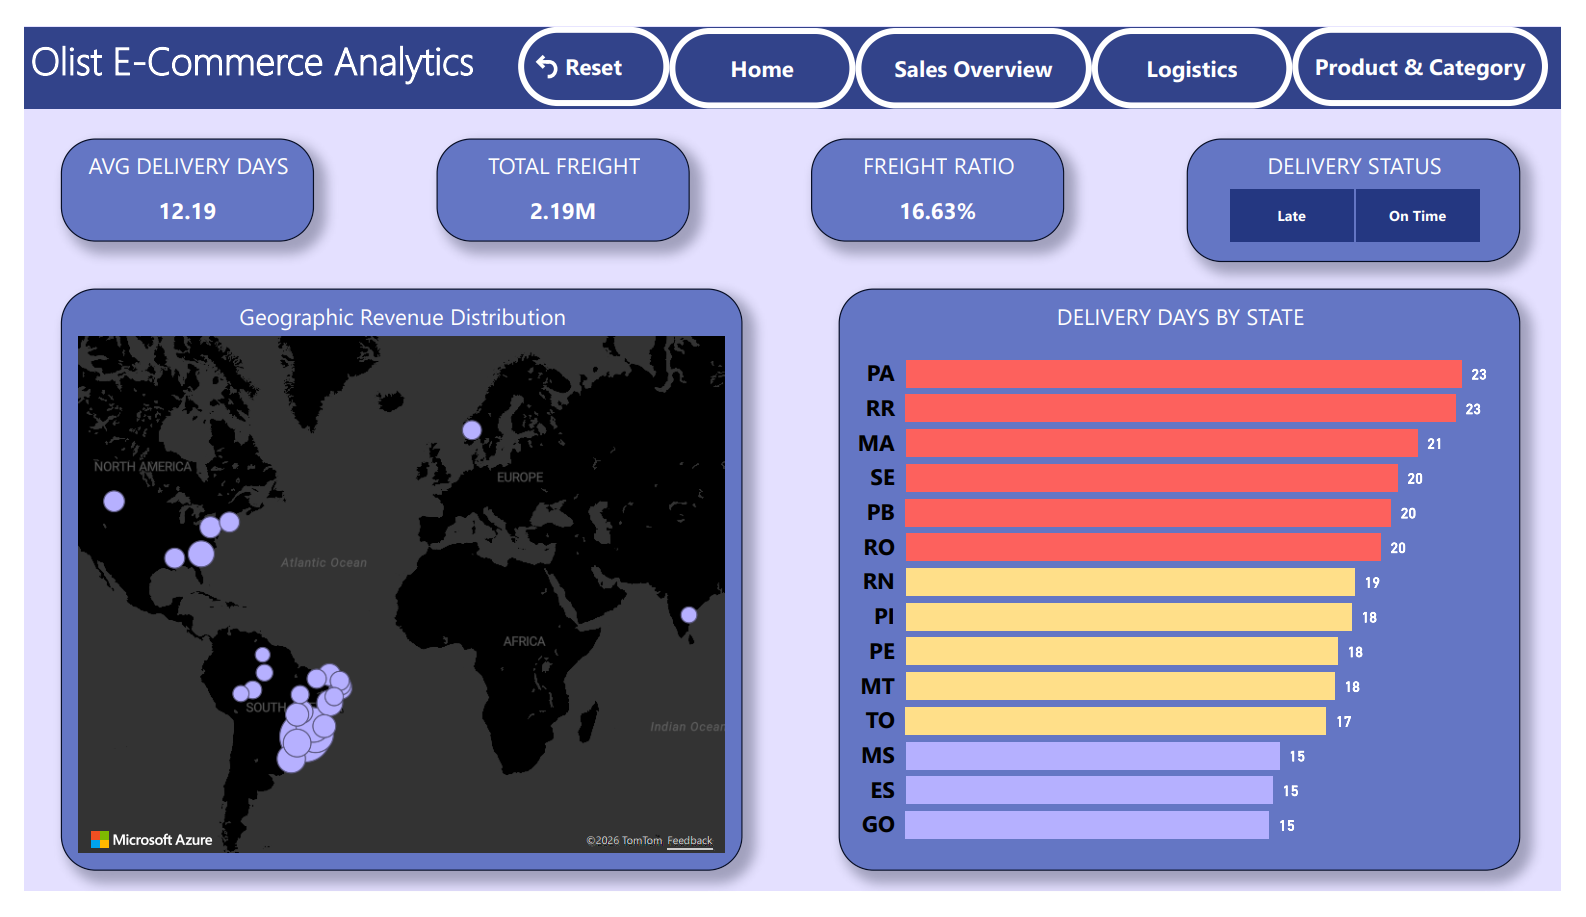

What the dashboard file says about the page in this screenshot:
{"tool":"powerbi","page":{"name":"Logistics","canvas":[1280,720],"ordinal":2},"visuals":[{"type":"textbox","box":[0,0,1280,67.5],"z":0},{"type":"actionButton","box":[536.9,1.2,154.8,66.7],"z":1000},{"type":"actionButton","box":[691.7,1.2,197.6,66.7],"z":2000},{"type":"actionButton","box":[889.3,1.2,166.7,66.7],"z":3000},{"type":"actionButton","box":[1056.2,0,212.5,66.2],"z":4000},{"type":"cardVisual","title":"AVG DELIVERY DAYS","fields":{"Data":["olist_final_table.Avg delivery day"]},"box":[30,92.5,211.2,86.2],"z":5000},{"type":"cardVisual","title":"TOTAL FREIGHT","fields":{"Data":["olist_final_table.Total Freight"]},"box":[342.5,92.5,211.2,86.2],"z":6000},{"type":"cardVisual","title":"FREIGHT RATIO","fields":{"Data":["olist_final_table.Freight ratio"]},"box":[655,92.5,211.2,86.2],"z":7000},{"type":"slicer","title":"DELIVERY STATUS","fields":{"Values":["olist_final_table.Delivery_status"]},"box":[967.5,92.5,278.8,103.8],"z":8000},{"type":"azureMap","title":"Geographic Revenue Distribution","fields":{"Category":["olist_final_table.customer_state"],"Size":["olist_final_table.Total Revenue"]},"box":[30,217.5,568,485],"z":9000},{"type":"clusteredBarChart","title":"DELIVERY DAYS BY STATE","fields":{"Category":["olist_final_table.customer_state"],"Y":["olist_final_table.Avg delivery day"]},"box":[677.5,217.5,568.8,485],"z":10000},{"type":"actionButton","box":[411.2,0,125.5,66.4],"z":14000}]}

Visuals, with their boxes in screenshot pixels (x1, y1, x2, y2), scaled from the page's 1280x720 canvas onto the 1586x917 screenshot:
textbox: 0/0/1585/86
actionButton: 665/2/857/86
actionButton: 857/2/1102/86
actionButton: 1102/2/1308/86
actionButton: 1309/0/1572/84
"AVG DELIVERY DAYS" cardVisual: 37/118/299/228
"TOTAL FREIGHT" cardVisual: 424/118/686/228
"FREIGHT RATIO" cardVisual: 812/118/1073/228
"DELIVERY STATUS" slicer: 1199/118/1544/250
"Geographic Revenue Distribution" azureMap: 37/277/741/895
"DELIVERY DAYS BY STATE" clusteredBarChart: 839/277/1544/895
actionButton: 510/0/665/85
